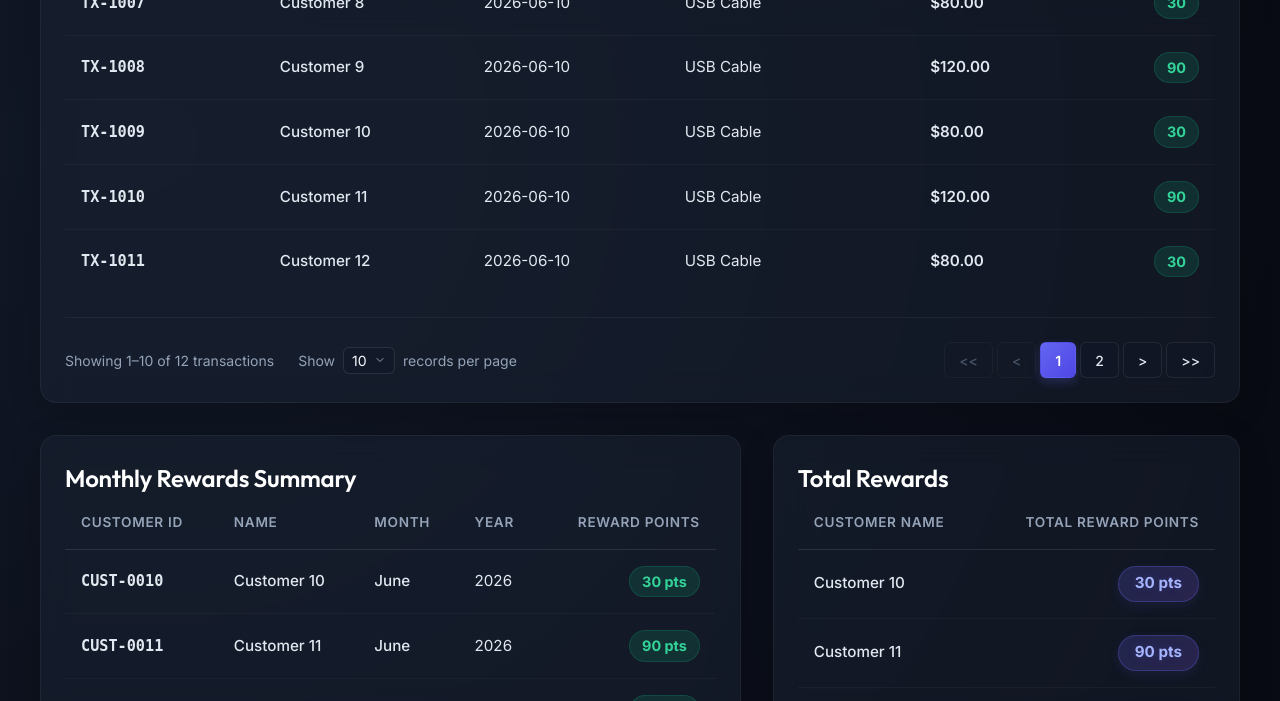
Test: App Component Integrations › renders dashboard tables and handles traditional pagination
The image size is (1280, 701).
(page scrolled)
Expected: the text with test id "pagination-stats" reads "Showing 1–10 of 12 transactions", top-left (65, 350), bottom-right (274, 371)
Expected: the text "Wireless Headphones" is not shown
Note: Click Next to go to Page 2
Click the button with test id "pagination-next".
click(1143, 360)  # box top-left (1123, 342), bottom-right (1162, 378)
(page scrolled)
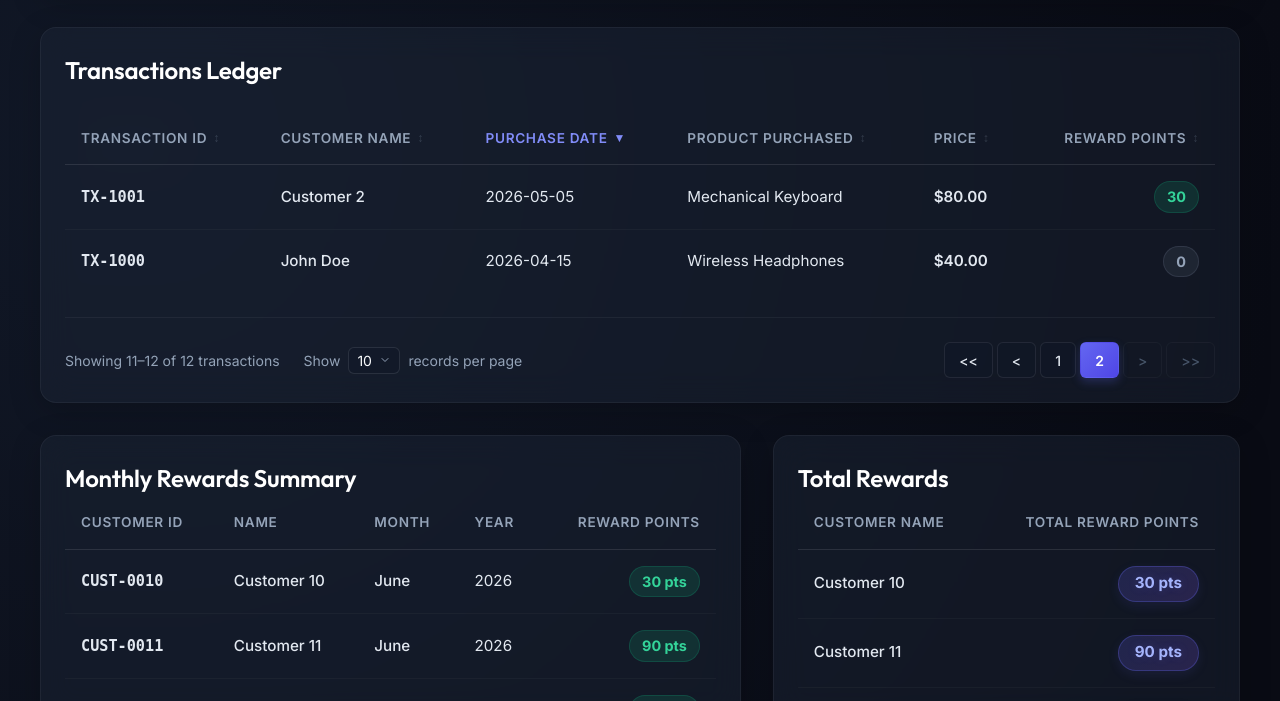
Now the text with test id "pagination-stats" reads "Showing 11–12 of 12 transactions", box top-left (65, 350), bottom-right (280, 371)
Now the text "Wireless Headphones" is shown, box top-left (671, 229), bottom-right (918, 293)
Now the text "Mechanical Keyboard" is shown, box top-left (671, 165), bottom-right (918, 229)
Note: Click Prev to return to Page 1
Click the button with test id "pagination-prev".
click(1016, 360)  # box top-left (997, 342), bottom-right (1036, 378)
(page scrolled)
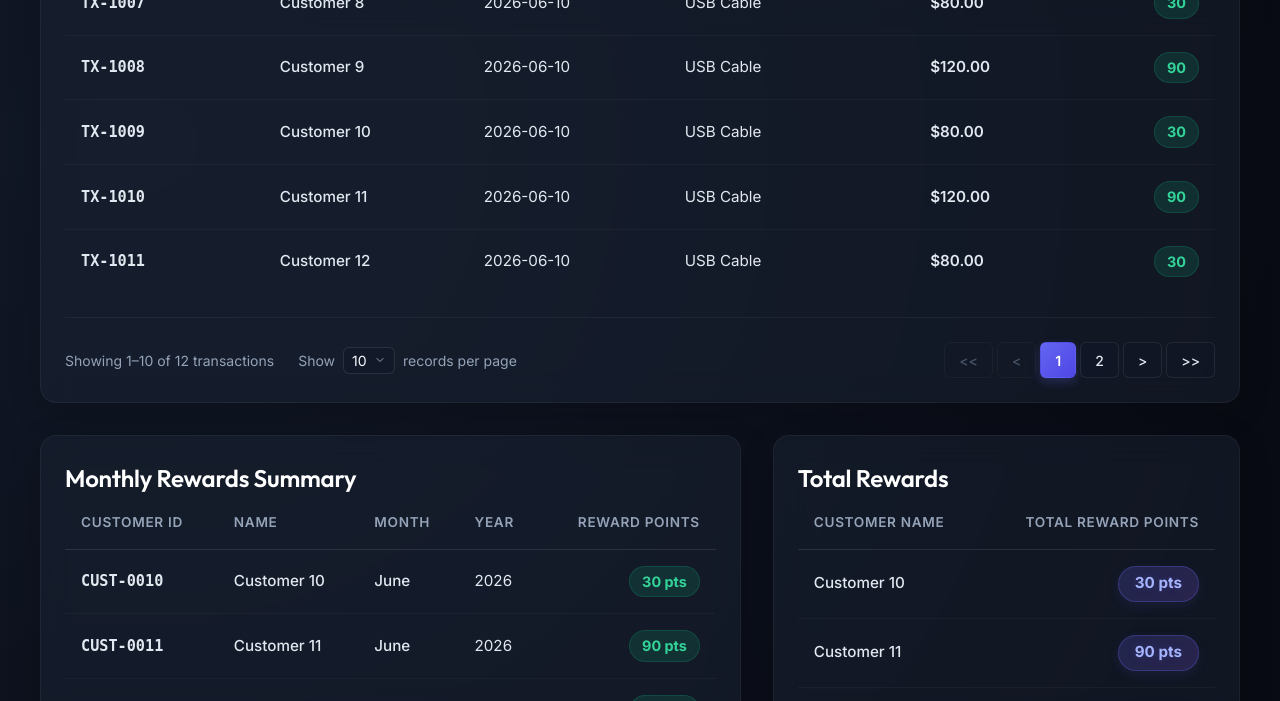
Now the text with test id "pagination-stats" reads "Showing 1–10 of 12 transactions", box top-left (65, 350), bottom-right (274, 371)
Now the text "USB Cable" is shown 10 times
Note: Click Page 2 button directly
Click the button with test id "pagination-page-2".
click(1100, 360)  # box top-left (1080, 342), bottom-right (1119, 378)
(page scrolled)
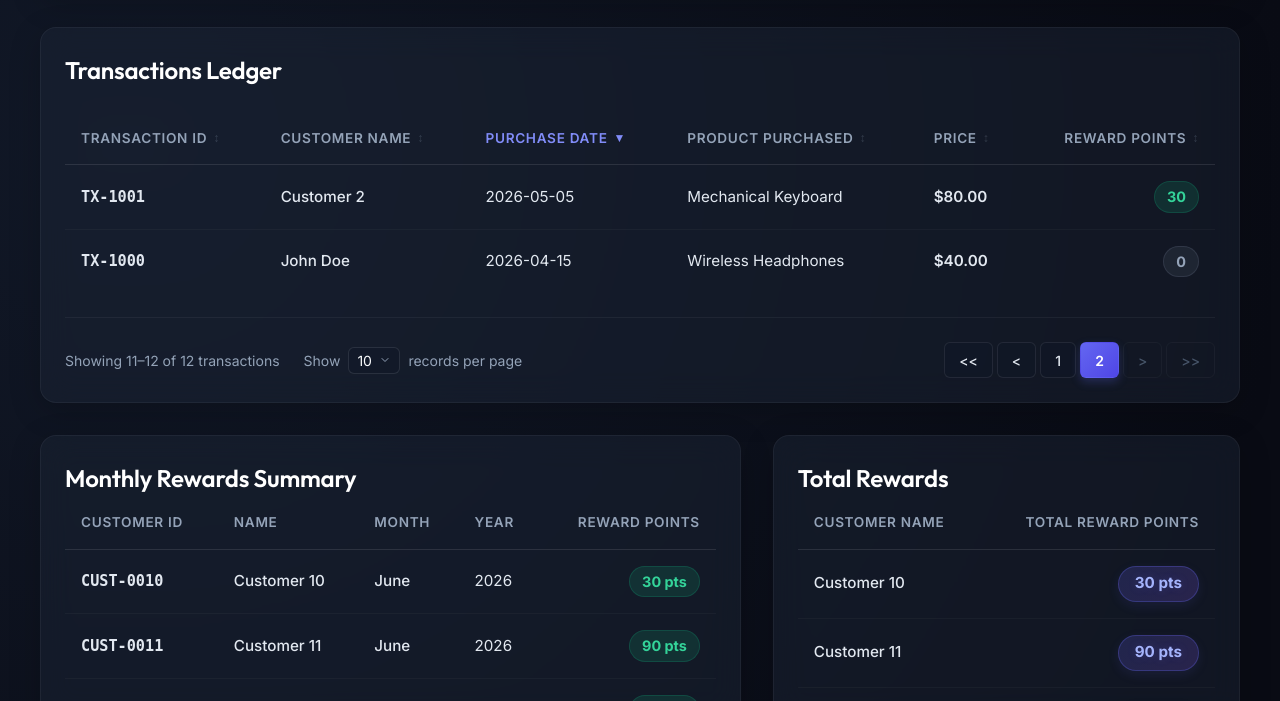
Now the text with test id "pagination-stats" reads "Showing 11–12 of 12 transactions", box top-left (65, 350), bottom-right (280, 371)
Now the text "Wireless Headphones" is shown, box top-left (671, 229), bottom-right (918, 293)
Note: Click First to return to Page 1
Click the button with test id "pagination-first".
click(968, 360)  # box top-left (944, 342), bottom-right (993, 378)
(page scrolled)
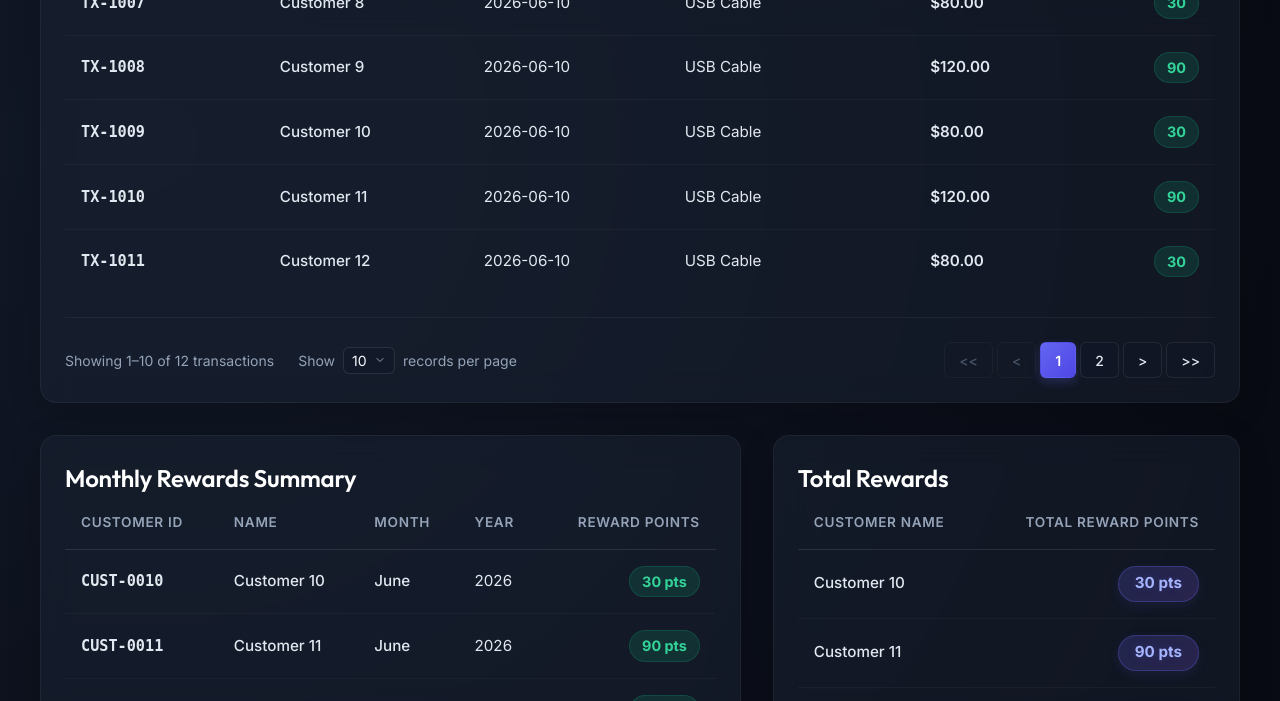
Now the text with test id "pagination-stats" reads "Showing 1–10 of 12 transactions", box top-left (65, 350), bottom-right (274, 371)
Now the text "USB Cable" is shown 10 times
Note: Click Last to go to Page 2
Click the button with test id "pagination-last".
click(1191, 360)  # box top-left (1166, 342), bottom-right (1215, 378)
(page scrolled)
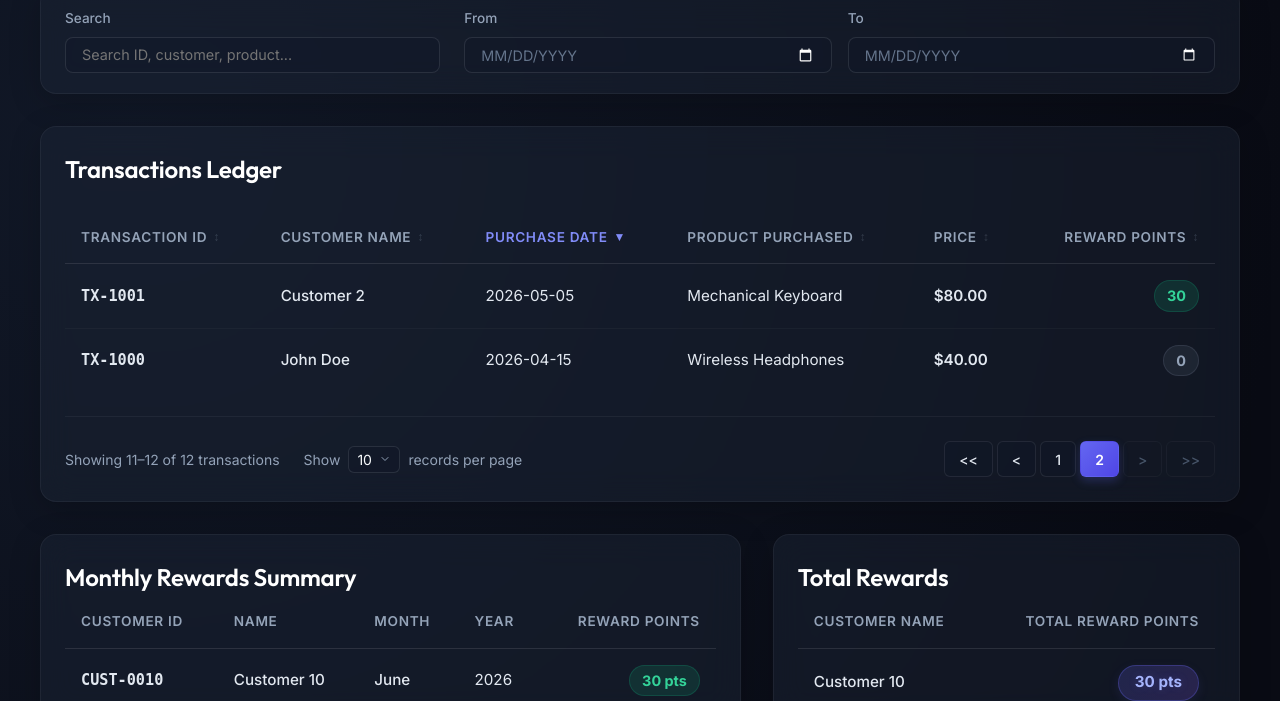
Now the text with test id "pagination-stats" reads "Showing 11–12 of 12 transactions", box top-left (65, 449), bottom-right (280, 470)
Now the text "Wireless Headphones" is shown, box top-left (671, 328), bottom-right (918, 392)
